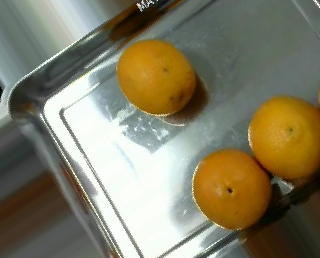Orange: (191, 149, 272, 229), (246, 94, 320, 178), (116, 40, 196, 116)
